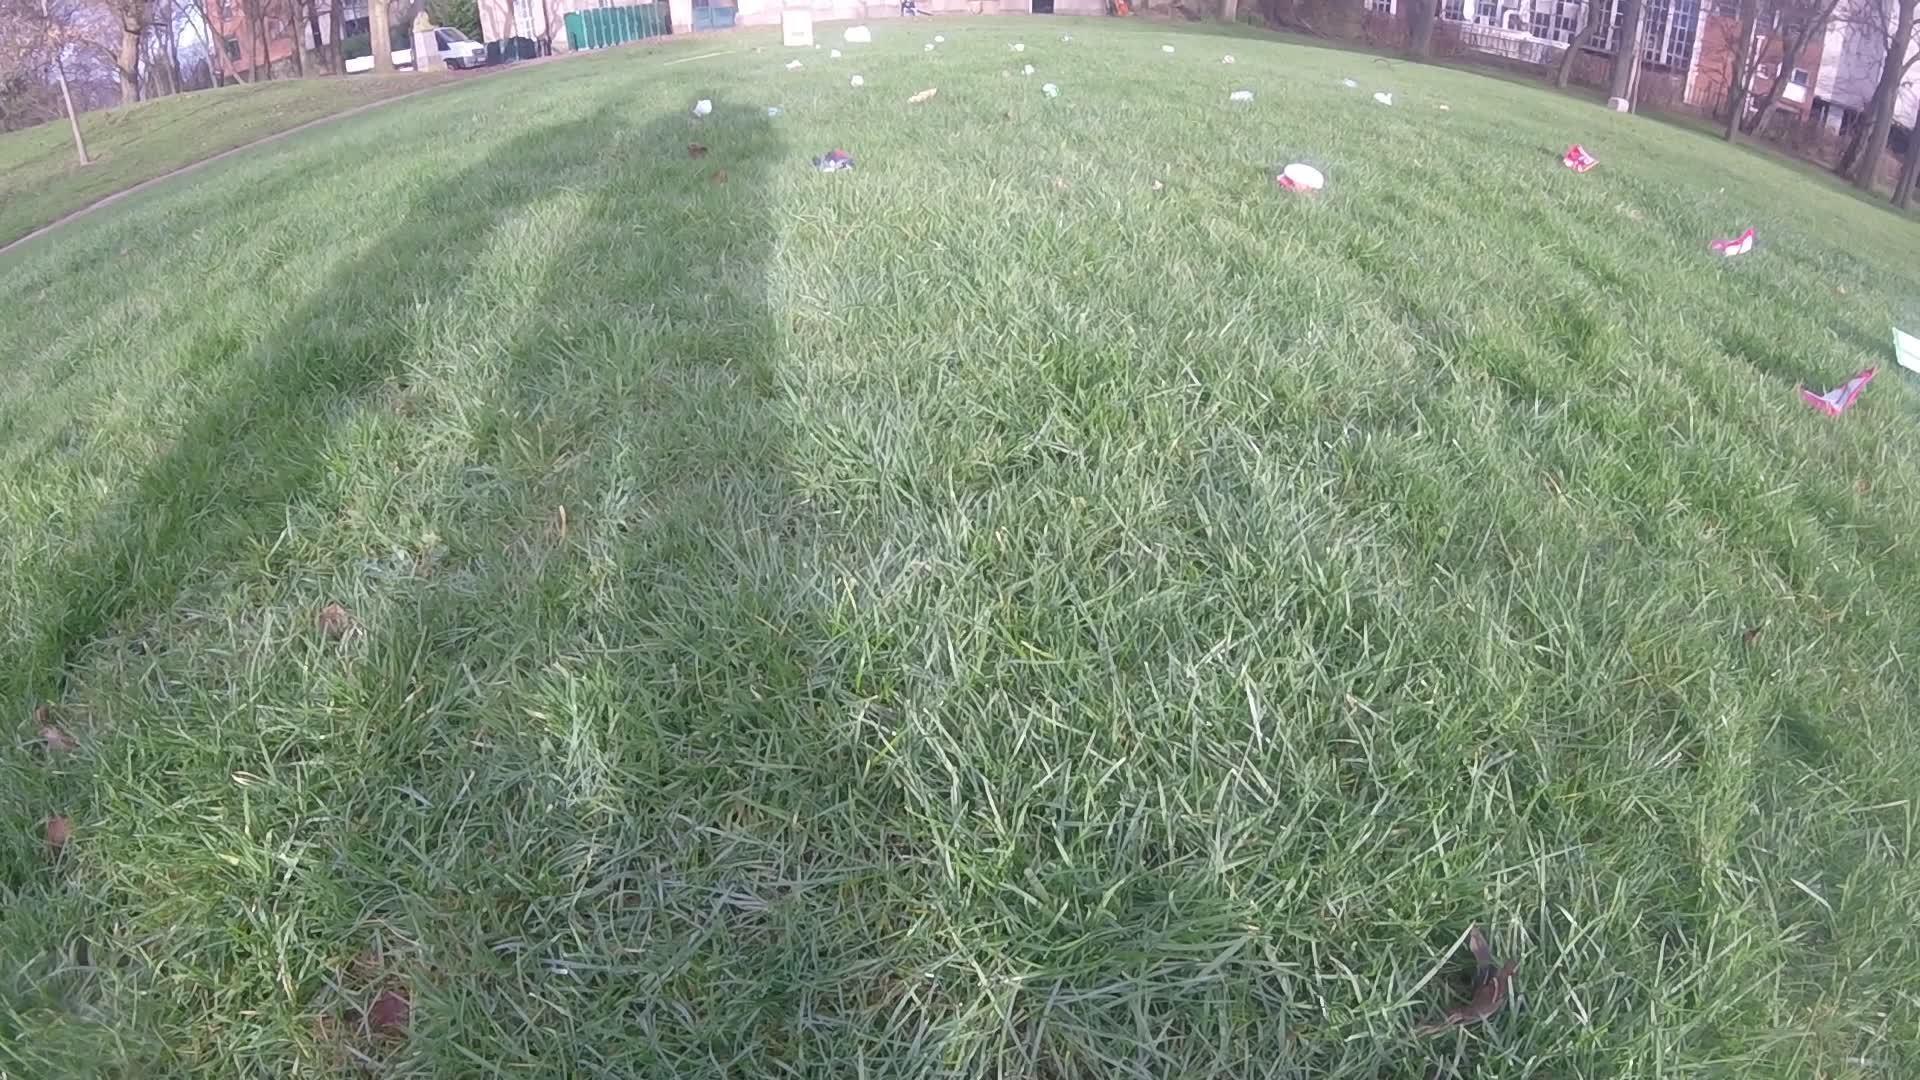litter: (1807, 371, 1879, 411), (1276, 158, 1324, 200), (1894, 327, 1920, 381), (1557, 140, 1597, 171), (785, 7, 815, 47), (1712, 232, 1756, 256), (815, 148, 855, 174), (911, 84, 939, 104), (845, 22, 873, 42), (1229, 88, 1253, 103), (694, 99, 712, 115), (1374, 94, 1394, 107), (1039, 84, 1060, 96), (1341, 75, 1361, 87), (851, 75, 866, 88), (1163, 42, 1175, 55), (1011, 44, 1026, 54), (789, 59, 802, 70), (1224, 55, 1238, 63), (934, 34, 947, 42), (767, 109, 779, 117), (831, 49, 840, 58), (924, 44, 934, 50)
